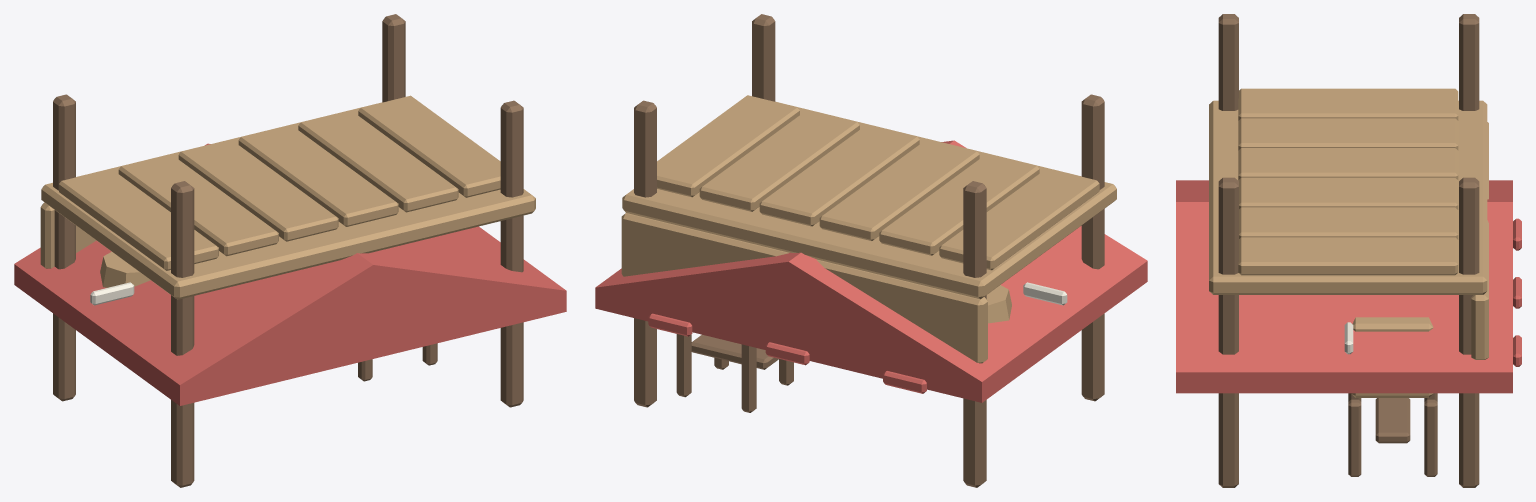
The model's file is town_market_stall.glb.
3 renders of one model, left to right at view 1: azimuth 30°, elevation 25°; view 2: azimuth 150°, elevation 25°; view 3: azimuth 270°, elevation 25°, orthographic.
Visible parts, largest first — view 1: world; view 2: world; view 3: world.
Part boxes in pixels (x1=…): world: x1=14, y1=14, x2=566, y2=487; world: x1=595, y1=14, x2=1147, y2=487; world: x1=1176, y1=14, x2=1521, y2=487.
Size of the model in its own units: 2 by 1.46 by 1.49.
